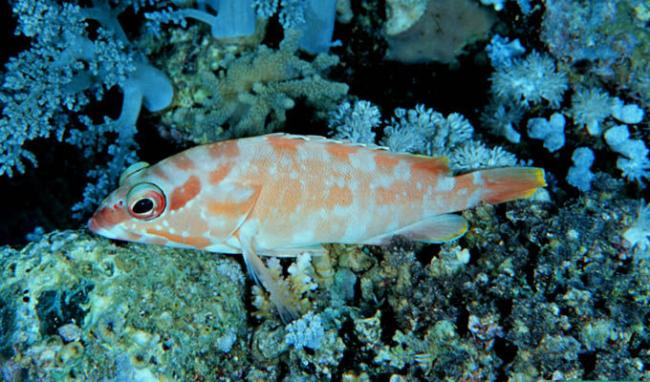fish: (87, 132, 548, 284)
